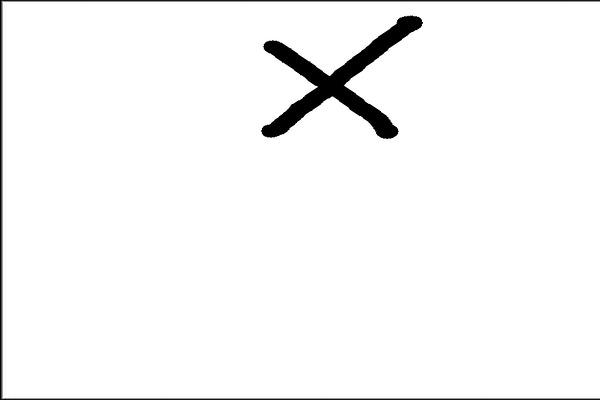X: (243, 7, 457, 145)
